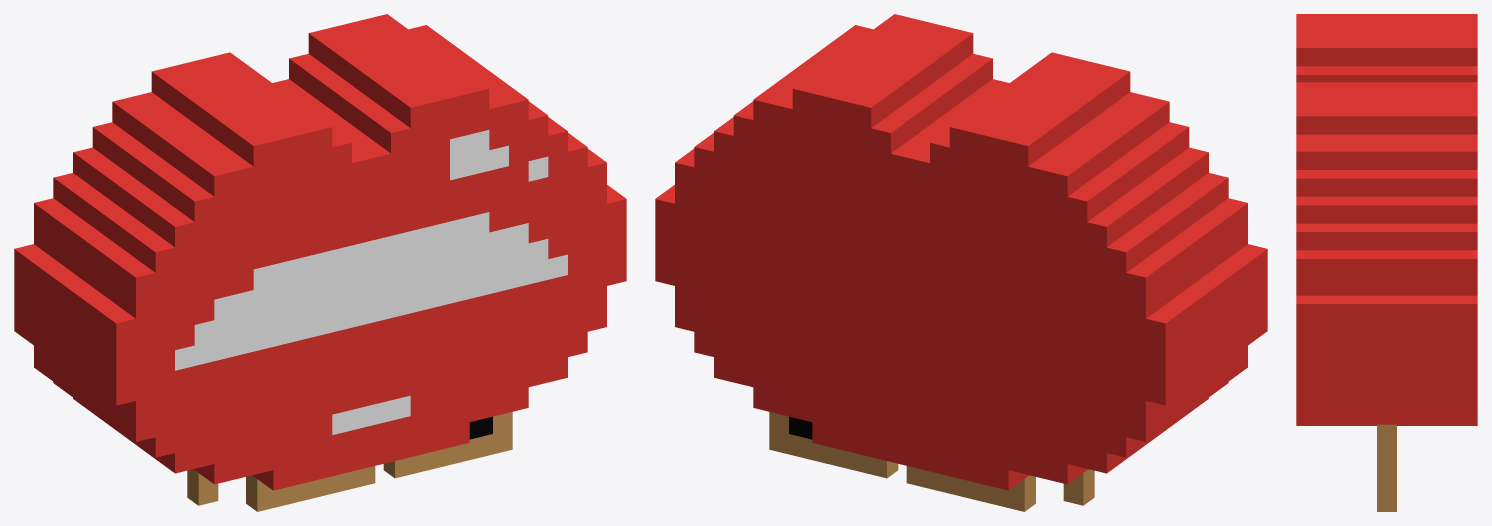
Rendered from lips.glb.
The picture shows the model from 3 angles, left to right: view 1: azimuth 30°, elevation 25°; view 2: azimuth 150°, elevation 25°; view 3: azimuth 270°, elevation 25°; orthographic projection. The views are drawn at different scales.
Parts seen in each view (by area): view 1: base, teeth, glasses, mouth; view 2: base, glasses; view 3: base, glasses.
Boxes of the visible parts, left/top/right/bottom form: base: left=14, top=14, right=626, bottom=490; teeth: left=175, top=212, right=567, bottom=370; glasses: left=187, top=412, right=512, bottom=511; mouth: left=332, top=395, right=410, bottom=434; base: left=655, top=14, right=1267, bottom=490; glasses: left=769, top=412, right=1094, bottom=511; base: left=1296, top=14, right=1477, bottom=425; glasses: left=1377, top=424, right=1396, bottom=511.
Bounding box in the file's own units: 26 × 20 × 9.
Materials: 6 (6 with a texture image).
